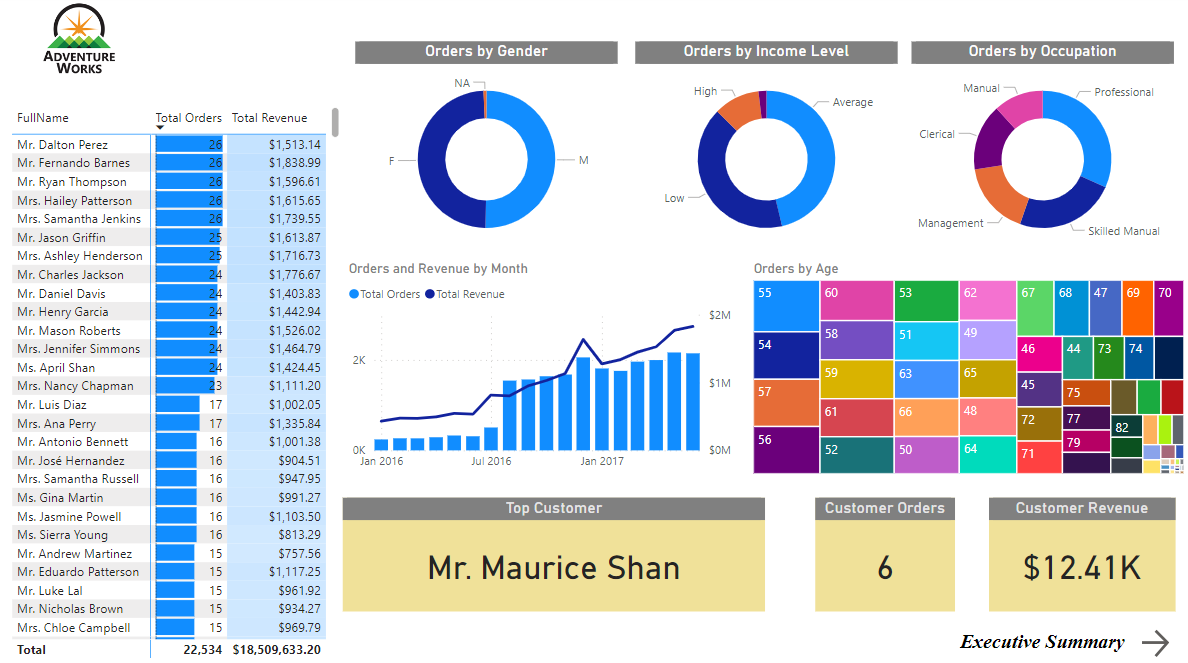

What the dashboard file says about the page in this screenshot:
{"tool":"powerbi","page":{"name":"Customer Detail","canvas":[1280,720],"ordinal":2},"visuals":[{"type":"pivotTable","fields":{"Values":["AW_Sales.Total Orders","AW_Sales.Total Revenue"],"Rows":["AW_Customer_Lookup.FullName"]},"box":[9.8,117.4,361.8,602.6],"z":0},{"type":"donutChart","title":"Orders by Gender","fields":{"Y":["AW_Sales.Total Orders"],"Category":["AW_Customer_Lookup.Gender"]},"box":[383.8,51.3,282.4,234.7],"z":1000},{"type":"donutChart","title":"Orders by Income Level","fields":{"Y":["AW_Sales.Total Orders"],"Category":["AW_Customer_Lookup.IncomeLevel"]},"box":[684.6,51.3,282.4,234.7],"z":2000},{"type":"donutChart","title":"Orders by Occupation","fields":{"Y":["AW_Sales.Total Orders"],"Category":["AW_Customer_Lookup.Occupation"]},"box":[981.6,51.3,282.4,234.7],"z":3000},{"type":"lineClusteredColumnComboChart","title":"Orders and Revenue by Month","fields":{"Y":["AW_Sales.Total Orders"],"Y2":["AW_Sales.Total Revenue"],"Category":["AW_Calendar_Lookup.Start of Month"]},"box":[371.6,286,421.7,234.7],"z":4000},{"type":"treemap","title":"Orders by Age","fields":{"Group":["AW_Customer_Lookup.Current Age"],"Values":["AW_Sales.Total Orders"]},"box":[806.8,286,473.1,234.7],"z":5000},{"type":"card","title":"Top Customer","fields":{"Values":["Min(AW_Customer_Lookup.FullName)"]},"box":[370.4,542.8,454.7,122.2],"z":6000},{"type":"card","title":"Customer Revenue","fields":{"Values":["AW_Sales.Total Revenue"]},"box":[1064.7,542.8,200.5,122.2],"z":7000},{"type":"card","title":"Customer Orders","fields":{"Values":["AW_Sales.Total Orders"]},"box":[878.9,542.8,150.4,122.2],"z":8000},{"type":"textbox","box":[1043.9,678.4,188.3,40.3],"z":9000},{"type":"actionButton","box":[1223.6,679.7,40.3,39.1],"z":10000},{"type":"image","box":[24.4,0,123.5,95.3],"z":11000}]}

Visuals, with their boxes in screenshot pixels (x1, y1, x2, y2), scaled from the page's 1280x720 canvas onto the 1188x663 screenshot:
pivotTable - AW_Sales.Total Orders x AW_Sales.Total Revenue: bbox(9, 108, 345, 662)
"Orders by Gender" donutChart: bbox(356, 47, 618, 263)
"Orders by Income Level" donutChart: bbox(635, 47, 897, 263)
"Orders by Occupation" donutChart: bbox(911, 47, 1173, 263)
"Orders and Revenue by Month" lineClusteredColumnComboChart: bbox(345, 263, 736, 479)
"Orders by Age" treemap: bbox(749, 263, 1187, 479)
"Top Customer" card: bbox(344, 500, 766, 612)
"Customer Revenue" card: bbox(988, 500, 1174, 612)
"Customer Orders" card: bbox(816, 500, 955, 612)
textbox: bbox(969, 625, 1144, 662)
actionButton: bbox(1136, 626, 1173, 662)
image: bbox(23, 0, 137, 88)
